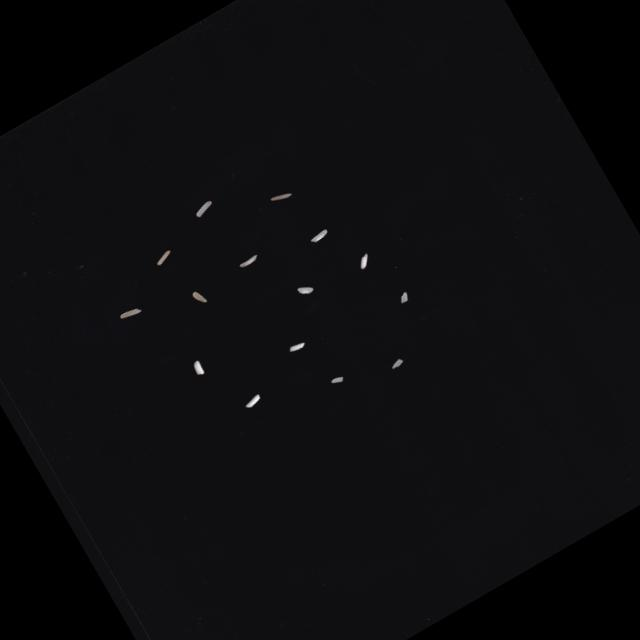Chalky: (295, 280, 314, 298), (308, 228, 328, 244), (355, 252, 372, 270)
Not: (192, 199, 214, 218), (118, 304, 141, 322), (269, 188, 292, 205), (237, 253, 259, 269), (152, 249, 172, 266), (286, 338, 306, 354), (242, 393, 262, 409), (190, 288, 207, 306), (190, 358, 206, 376), (328, 373, 344, 386), (388, 356, 404, 369), (396, 290, 410, 304)
